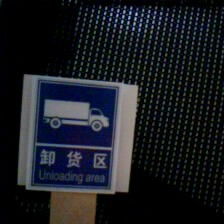unload: (23, 70, 126, 186)
